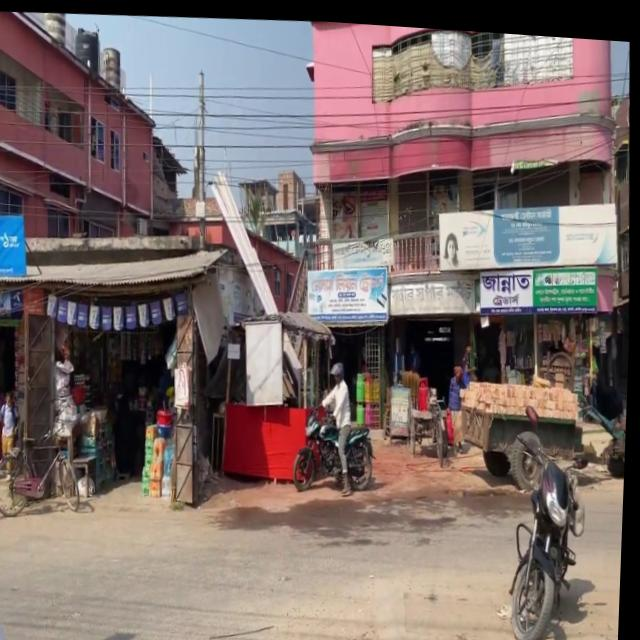Construction-barrier: (196, 412, 608, 527), (198, 457, 537, 524), (448, 472, 534, 494)
Fallen-tree: (503, 417, 599, 640), (291, 394, 380, 493), (579, 390, 630, 469), (409, 386, 456, 460)
Garbage: (217, 300, 342, 483), (458, 368, 584, 476)
Garbage-bin: (318, 355, 358, 477), (446, 357, 471, 447), (0, 388, 24, 480)
